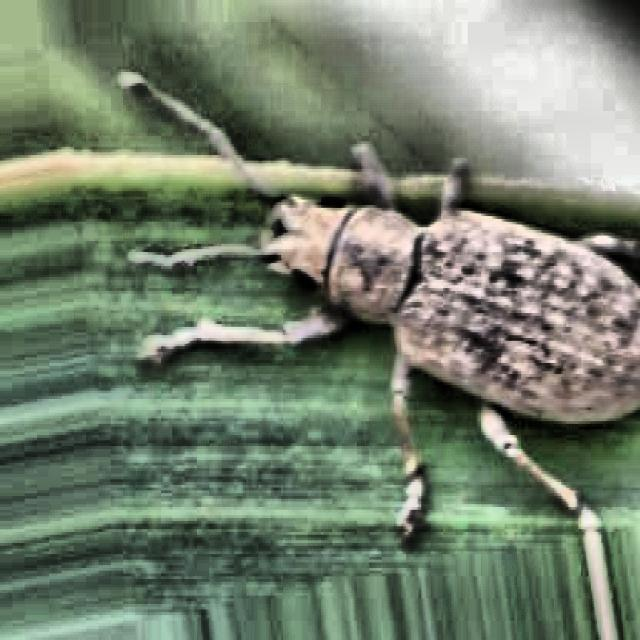Stink bug: (191, 17, 640, 491)
